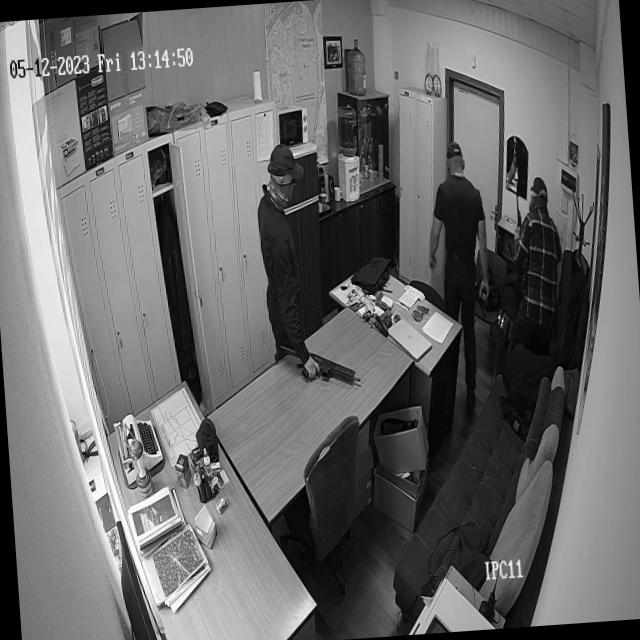gun: (274, 338, 362, 388), (513, 189, 524, 229)
person: (430, 141, 500, 338)
person with a gun: (246, 120, 358, 382), (504, 160, 580, 433)
